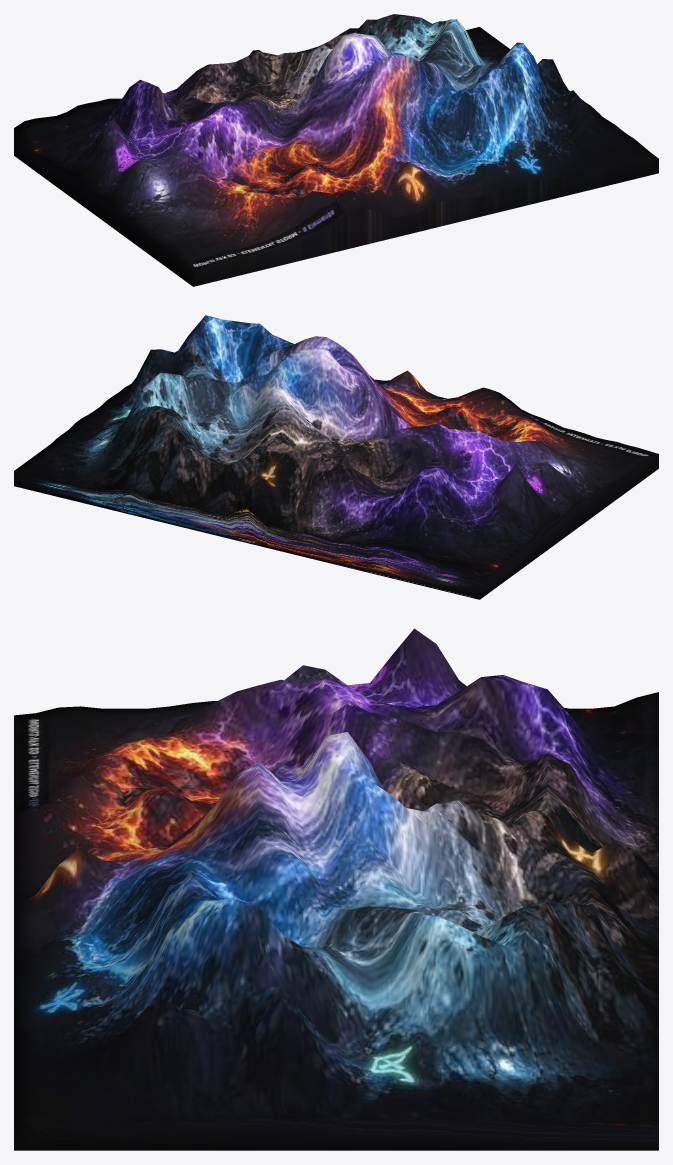
Rendered from WORLD_VFX_03_Elemental_Storm.glb.
3 renders of one model, top to bottom at view 1: azimuth 30°, elevation 25°; view 2: azimuth 150°, elevation 25°; view 3: azimuth 270°, elevation 25°, orthographic. The views are drawn at different scales.
Visible parts, largest first — view 1: WORLD_VFX_03_Elemental_Storm; view 2: WORLD_VFX_03_Elemental_Storm; view 3: WORLD_VFX_03_Elemental_Storm.
Part boxes in pixels (x1=…): WORLD_VFX_03_Elemental_Storm: x1=14, y1=14, x2=658, y2=286; WORLD_VFX_03_Elemental_Storm: x1=14, y1=315, x2=658, y2=599; WORLD_VFX_03_Elemental_Storm: x1=14, y1=628, x2=658, y2=1150.
Size of the model in its own units: 2 by 0.51 by 1.33.
Materials: 1 (1 with a texture image).
